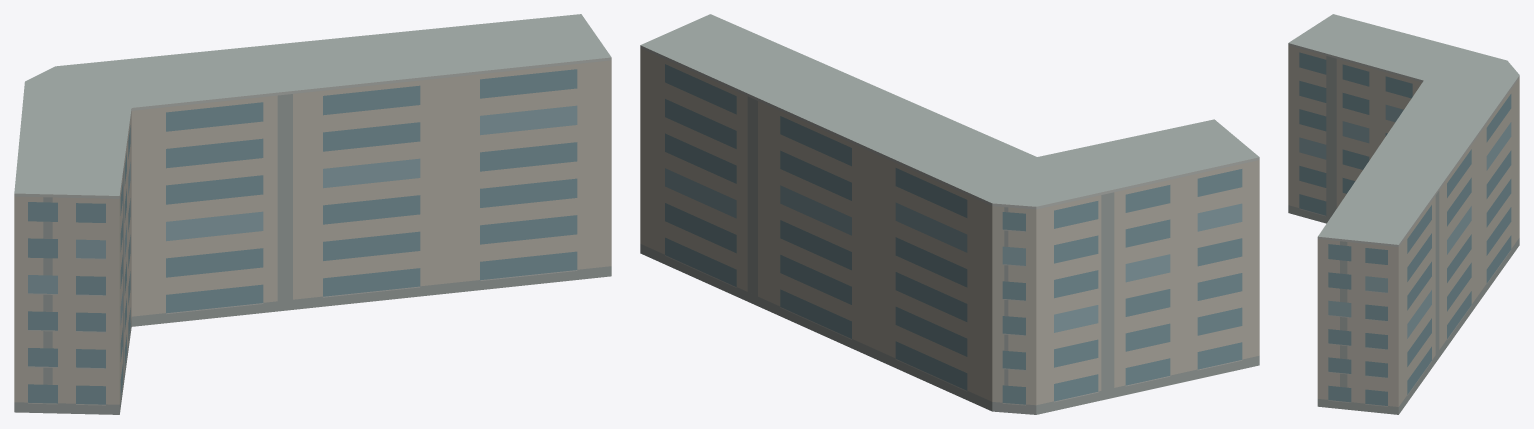
Rendered from residential-06e9a64a-e3bd-47f2-b49f-ff0cddc0bbdd.glb.
3 views of the same model, side by side, from view 1: azimuth 30°, elevation 25°; view 2: azimuth 150°, elevation 25°; view 3: azimuth 270°, elevation 25° (orthographic). The views are drawn at different scales.
Parts seen in each view (by area): view 1: residential-06e9a64a-e3bd-47f2-b49f-ff0cddc0bbdd.tmp; view 2: residential-06e9a64a-e3bd-47f2-b49f-ff0cddc0bbdd.tmp; view 3: residential-06e9a64a-e3bd-47f2-b49f-ff0cddc0bbdd.tmp.
Part boxes in pixels (bbox=[...]): residential-06e9a64a-e3bd-47f2-b49f-ff0cddc0bbdd.tmp: bbox=[14, 14, 611, 414]; residential-06e9a64a-e3bd-47f2-b49f-ff0cddc0bbdd.tmp: bbox=[640, 14, 1259, 414]; residential-06e9a64a-e3bd-47f2-b49f-ff0cddc0bbdd.tmp: bbox=[1288, 14, 1519, 414].
Size of the model in its own units: 53.32 by 18.3 by 22.6.
